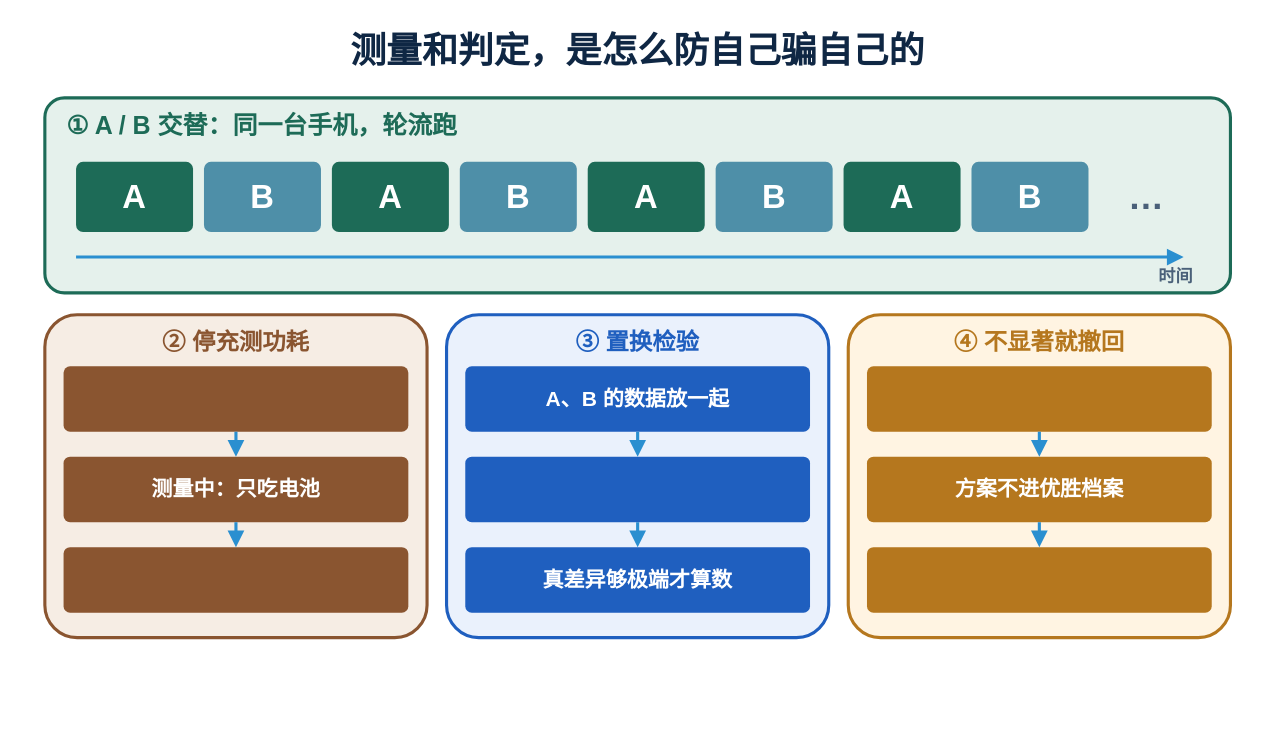
This 1275x729 diagram has some shape labels left out. Each missing label, with the centre of its shape:
差异不显著: point (1039, 398)
把标签随机打乱很多次: point (637, 489)
测完：恢复充电: point (235, 579)
测量前：断开充电: point (235, 398)
设备自动改回原样: point (1039, 579)
